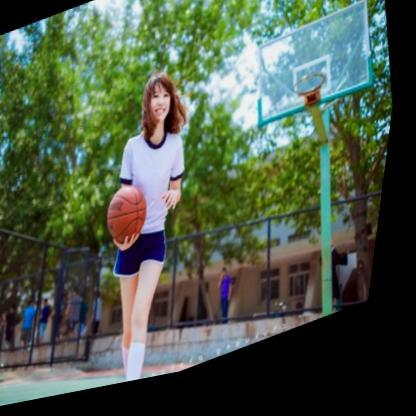basketball: (105, 182, 161, 255)
